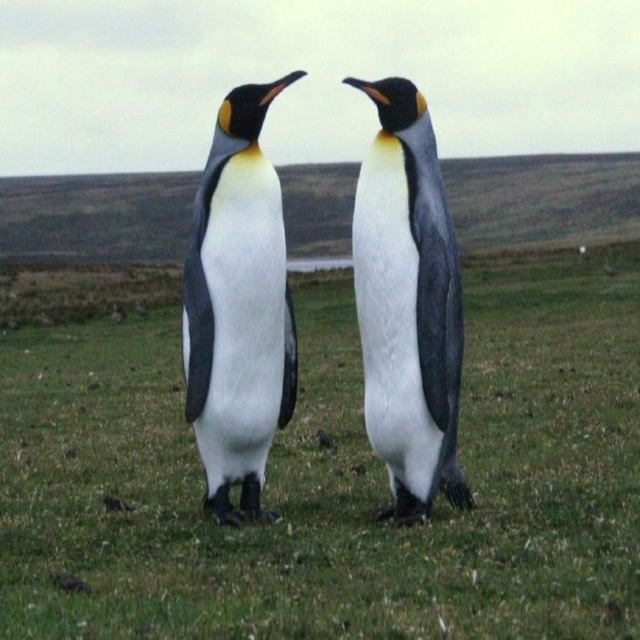Penguin: (342, 73, 478, 525), (179, 66, 305, 525)
